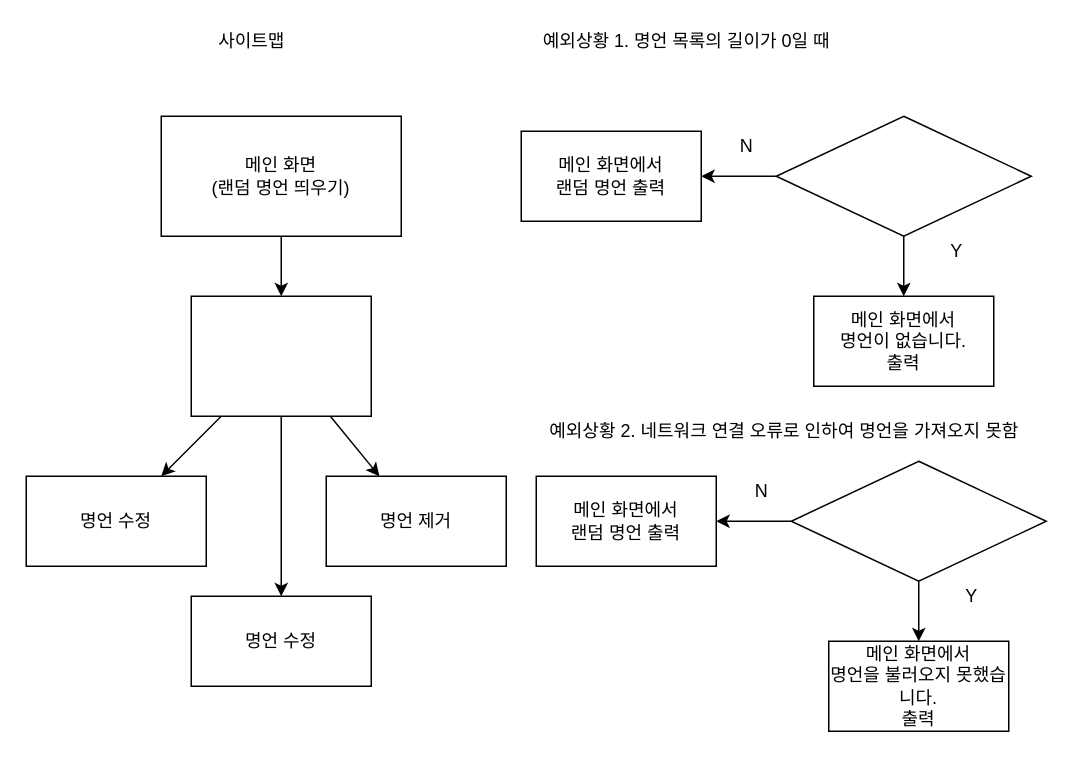
This 1073x758 diagram has some shape labels left out. The shapes that lost their labels are listed below. From the top down, each one's centre as x and y in pixels, then its label:
At [903,175]: "명언 목록의 길이가 0일때".
At [280,355]: "명언 목록".
At [918,520]: "네트워크 오류로 명언을 못가져 옴".
